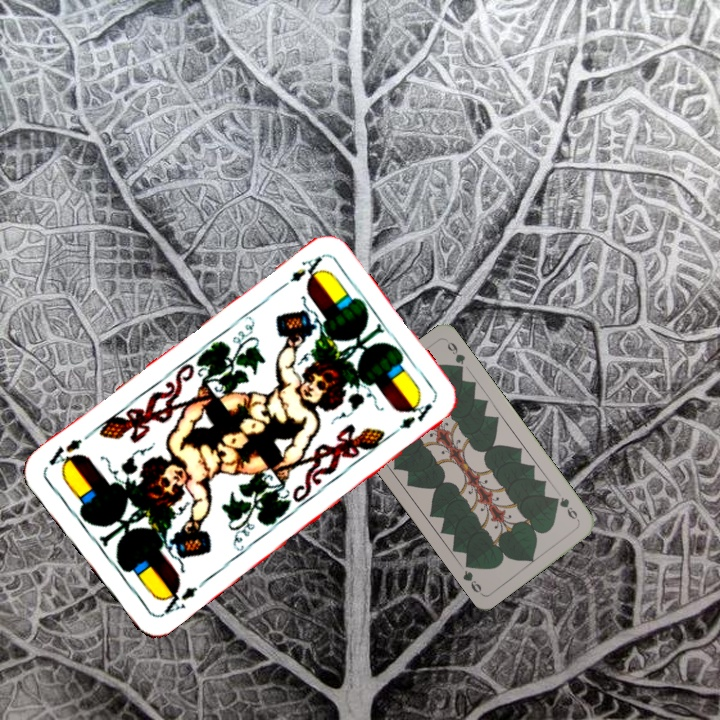EA: (156, 576, 208, 619), (285, 252, 325, 285)
G9: (550, 493, 582, 524)
